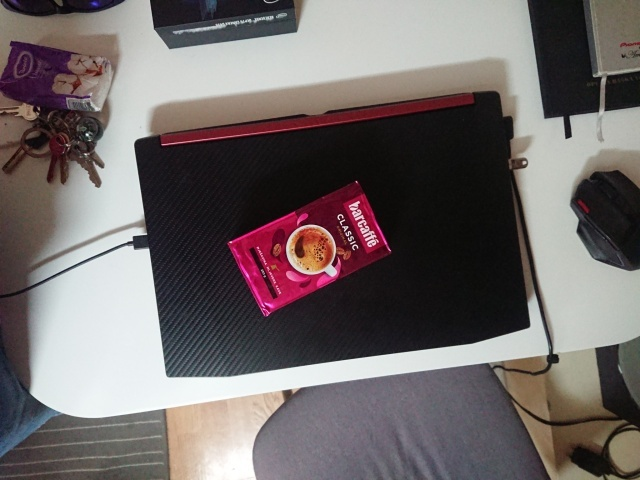Barcaffe Classic Original 225g: (224, 178, 394, 321)
